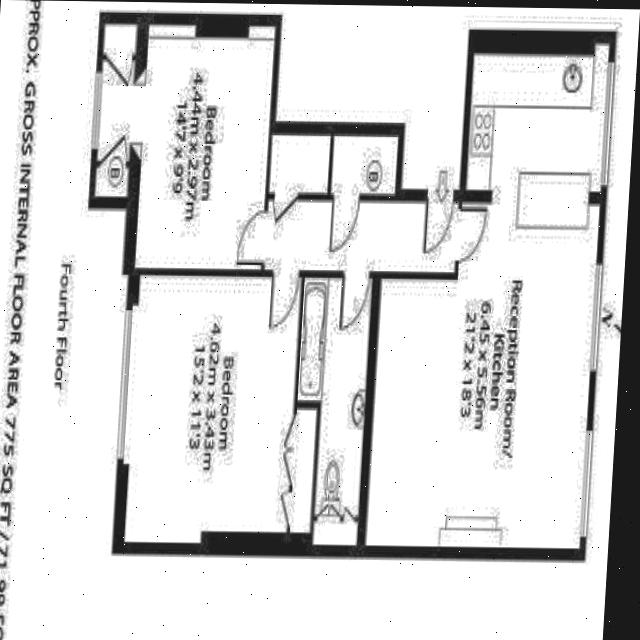room: (364, 31, 609, 558), (123, 268, 324, 553), (90, 16, 274, 275), (288, 274, 372, 547), (263, 198, 458, 273), (330, 136, 398, 197), (268, 132, 330, 198)
